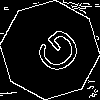G: (25, 25, 85, 84)
